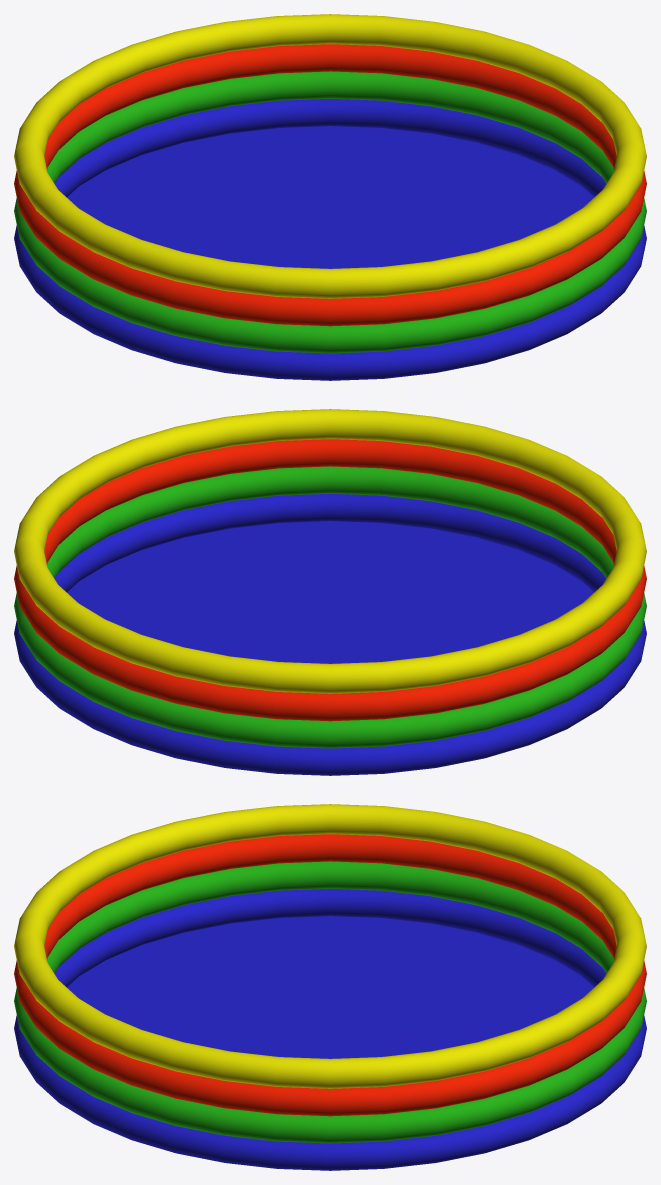
File: Pool-1c.fbx
The picture shows the model from 3 angles, top to bottom: view 1: azimuth 30°, elevation 25°; view 2: azimuth 150°, elevation 25°; view 3: azimuth 270°, elevation 25°; orthographic projection.
Parts seen in each view (by area): view 1: Pool; view 2: Pool; view 3: Pool.
Part boxes in pixels (x1,y1,x2,y2): Pool: (14,14,646,380); Pool: (14,409,646,775); Pool: (14,804,646,1170).
Size of the model in its own units: 351 by 66.73 by 351.
